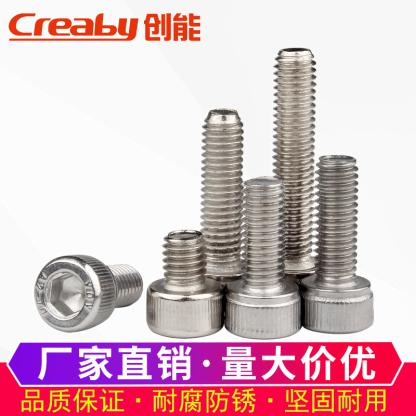FOD: (260, 46, 332, 313), (298, 151, 376, 334), (222, 174, 304, 341), (193, 105, 252, 315), (32, 253, 144, 333), (146, 228, 225, 340)
